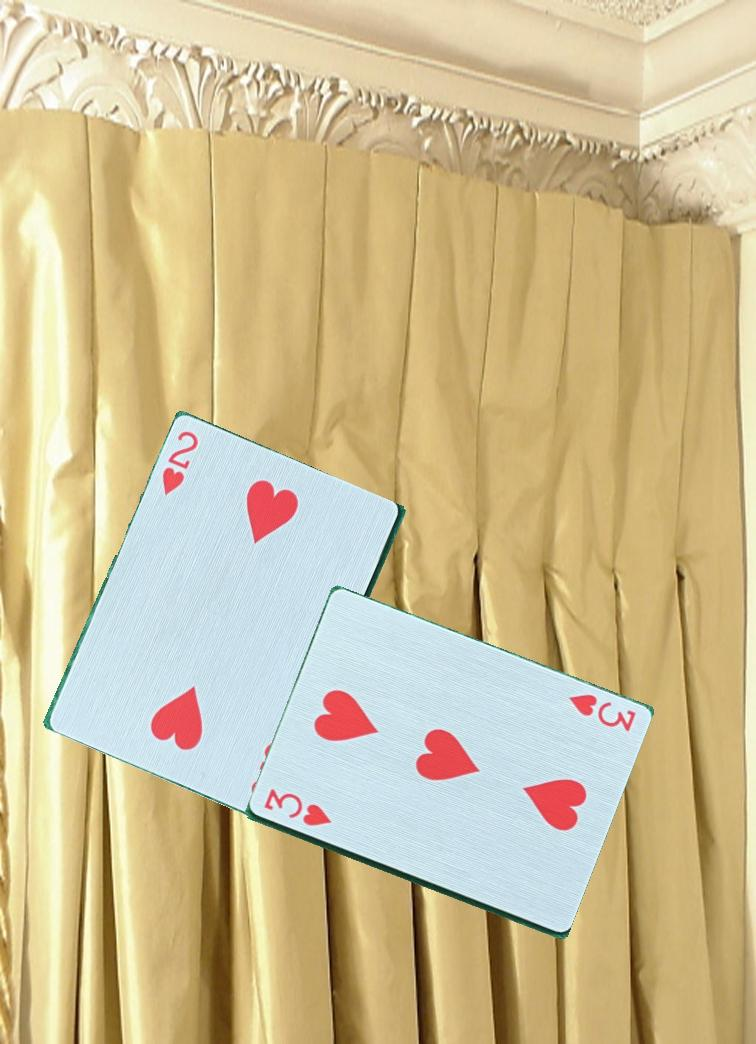2h: (158, 427, 202, 505)
3h: (555, 690, 641, 737), (259, 787, 334, 830)
